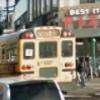buses: (0, 26, 77, 86)
